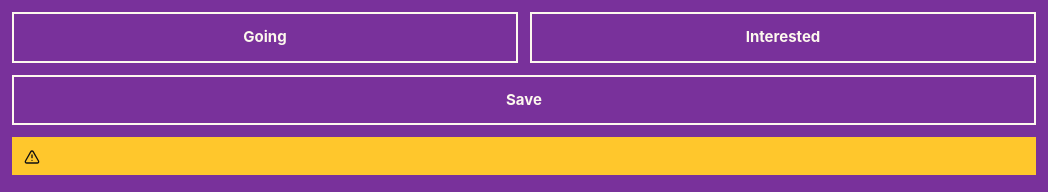
Test: RsvpButtons › marks you as going
Click the button "Going" at (265, 37), box [12, 12, 518, 62]
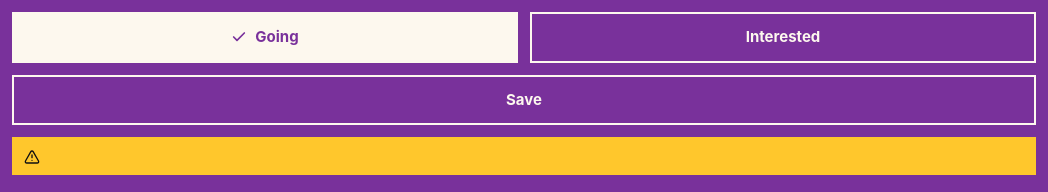
Expected: the button "Going" is pressed, [12, 12, 518, 62]
